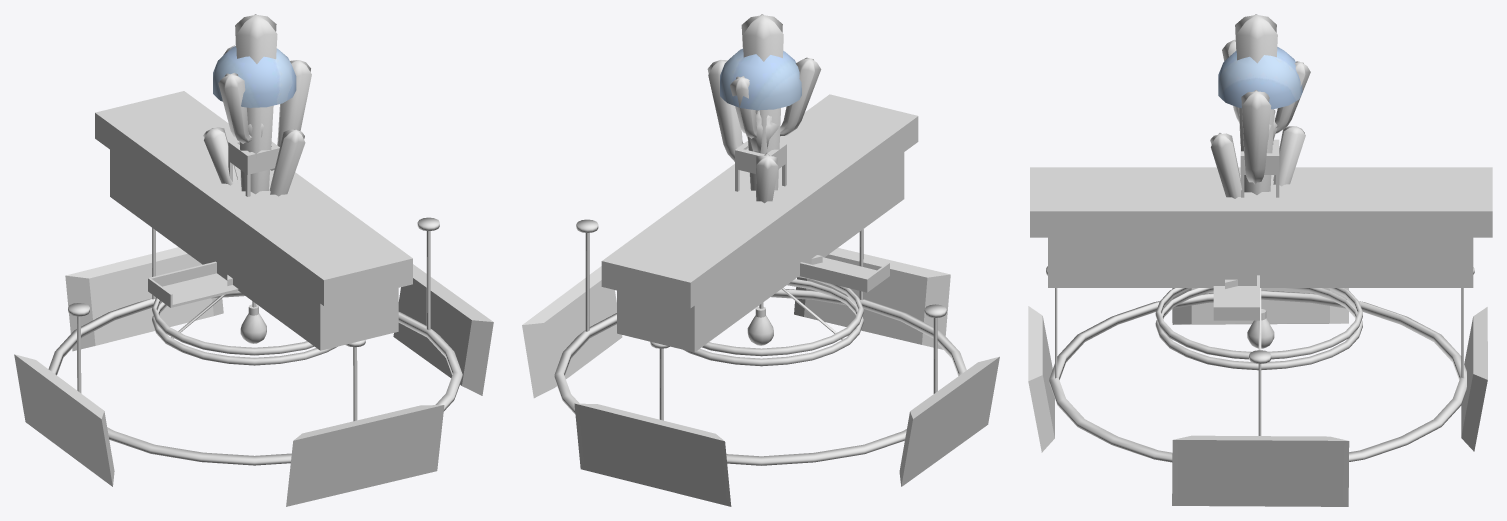
File: Export_TVs,cactus,lamp.fbx
3 views of the same model, side by side, from view 1: azimuth 30°, elevation 25°; view 2: azimuth 150°, elevation 25°; view 3: azimuth 270°, elevation 25° (orthographic).
Visible parts, largest first — view 1: Banche1, TVs_support1, Plant_cactus4, lamp_ceiling2, Lamp_floor1, Stand7, Plant_cactus3; view 2: Banche1, TVs_support1, Plant_cactus4, lamp_ceiling2, Lamp_floor1, Stand7, Plant_cactus3; view 3: Banche1, TVs_support1, Plant_cactus4, lamp_ceiling2, Lamp_floor1, Stand7, Plant_cactus3.
Part boxes in pixels (box(x1,y1,x2,y2)): Banche1: box(95, 91, 412, 350); TVs_support1: box(14, 217, 493, 506); Plant_cactus4: box(203, 14, 311, 285); lamp_ceiling2: box(152, 294, 337, 365); Lamp_floor1: box(213, 46, 296, 107); Stand7: box(148, 261, 238, 307); Plant_cactus3: box(228, 123, 279, 196); Banche1: box(601, 94, 918, 352); TVs_support1: box(522, 219, 999, 506); Plant_cactus4: box(707, 14, 822, 264); lamp_ceiling2: box(683, 276, 863, 366); Lamp_floor1: box(720, 48, 801, 110); Stand7: box(800, 257, 889, 292); Plant_cactus3: box(735, 110, 786, 191); Banche1: box(1030, 167, 1492, 287); TVs_support1: box(1028, 266, 1487, 506); Plant_cactus4: box(1210, 14, 1310, 288); lamp_ceiling2: box(1155, 288, 1362, 370); Lamp_floor1: box(1218, 47, 1302, 109); Stand7: box(1213, 275, 1259, 320); Plant_cactus3: box(1240, 110, 1279, 197).
Size of the model in its own units: 11.78 by 11.37 by 11.94.
